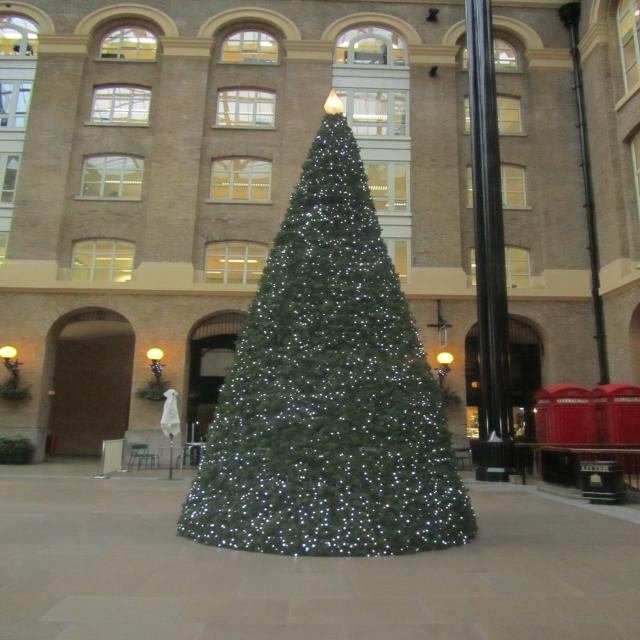Christmas-tree: (176, 80, 476, 576)
